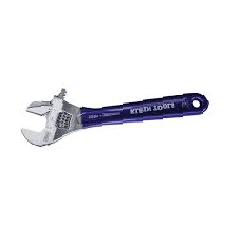wrench: (21, 84, 225, 145)
